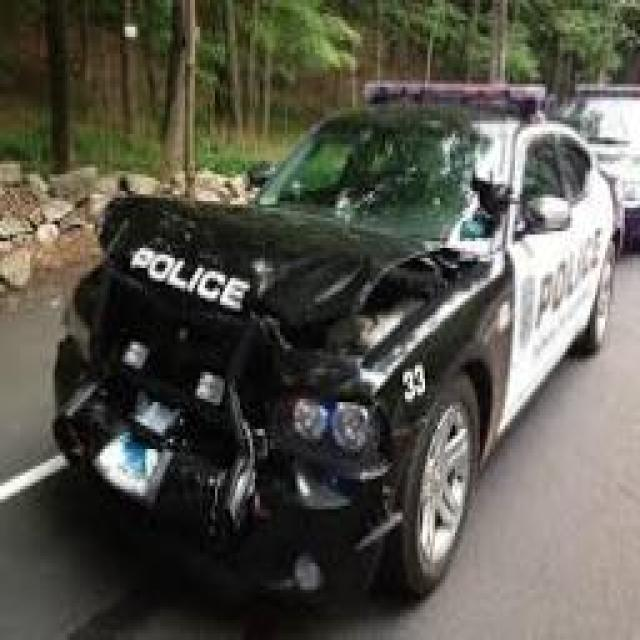replaceable: (71, 333, 283, 564), (137, 201, 440, 348), (459, 156, 527, 261)
